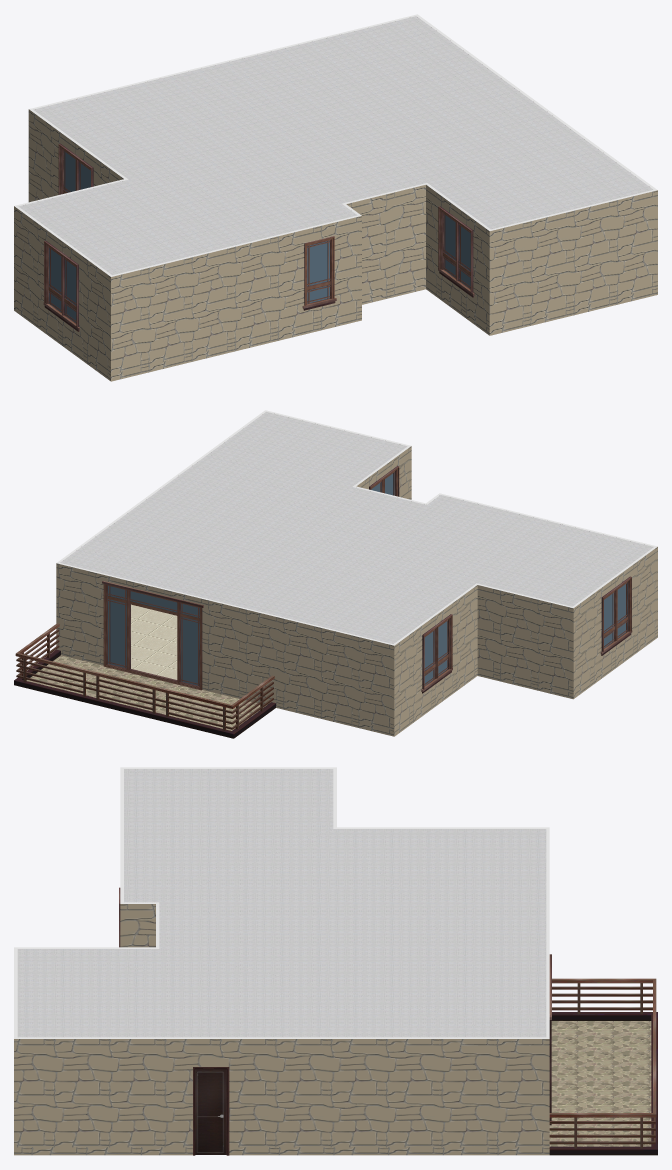
The model's file is house_0110400.FBX.
The picture shows the model from 3 angles, top to bottom: view 1: azimuth 30°, elevation 25°; view 2: azimuth 150°, elevation 25°; view 3: azimuth 270°, elevation 25°; orthographic projection. The views are drawn at different scales.
Parts seen in each view (by area): view 1: house_0110400_roof_100_00, house_0110400_outwall_100_05, house_0110400_outwall_100_09, house_0110400_outwall_100_04, house_0110400_outwall_100_07, house_0110400_outwall_100_08, house_0110400_outwall_100_02, house_0110400_floor_105_00, house_0110400_floor_103_00, house_0110400_floor_104_00, house_0110400_tcx_100_05, house_0110400_tcx_100_09 (+5 smaller); view 2: house_0110400_roof_100_00, house_0110400_outwall_100_01, house_0110400_floor_100_00, house_0110400_outwall_100_03, house_0110400_outwall_101_01, house_0110400_outwall_100_04, house_0110400_outwall_100_02, house_0110400_floor_101_00, house_0110400_floor_103_00, house_0110400_floor_102_00, house_0110400_tcx_100_01, house_0110400_outwall_100_08 (+6 smaller); view 3: house_0110400_roof_100_00, house_0110400_outwall_100_00, house_0110400_floor_100_00, house_0110400_tcx_100_00, house_0110400_outwall_101_00, house_0110400_outwall_100_06, house_0110400_outedge_100_00, house_0110400_outedge_100_01.
Part boxes in pixels (x1=…): house_0110400_roof_100_00: x1=18, y1=16, x2=653, y2=275; house_0110400_outwall_100_05: x1=111, y1=216, x2=361, y2=374; house_0110400_outwall_100_09: x1=489, y1=190, x2=657, y2=328; house_0110400_outwall_100_04: x1=14, y1=206, x2=110, y2=373; house_0110400_outwall_100_07: x1=346, y1=185, x2=425, y2=297; house_0110400_outwall_100_08: x1=426, y1=185, x2=489, y2=328; house_0110400_outwall_100_02: x1=28, y1=109, x2=123, y2=202; house_0110400_floor_105_00: x1=438, y1=206, x2=474, y2=297; house_0110400_floor_103_00: x1=43, y1=240, x2=79, y2=331; house_0110400_floor_104_00: x1=302, y1=236, x2=336, y2=310; house_0110400_tcx_100_05: x1=111, y1=313, x2=361, y2=381; house_0110400_tcx_100_09: x1=489, y1=287, x2=657, y2=335; house_0110400_roof_100_00: x1=60, y1=412, x2=653, y2=643; house_0110400_outwall_100_01: x1=56, y1=563, x2=394, y2=730; house_0110400_floor_100_00: x1=14, y1=623, x2=275, y2=738; house_0110400_outwall_100_03: x1=477, y1=585, x2=573, y2=692; house_0110400_outwall_101_01: x1=102, y1=581, x2=203, y2=690; house_0110400_outwall_100_04: x1=573, y1=547, x2=657, y2=692; house_0110400_outwall_100_02: x1=394, y1=585, x2=477, y2=730; house_0110400_floor_101_00: x1=131, y1=604, x2=177, y2=679; house_0110400_floor_103_00: x1=600, y1=576, x2=632, y2=655; house_0110400_floor_102_00: x1=421, y1=614, x2=452, y2=693; house_0110400_tcx_100_01: x1=56, y1=648, x2=394, y2=736; house_0110400_outwall_100_08: x1=356, y1=446, x2=411, y2=499; house_0110400_roof_100_00: x1=17, y1=769, x2=546, y2=1037; house_0110400_outwall_100_00: x1=14, y1=1039, x2=549, y2=1147; house_0110400_floor_100_00: x1=549, y1=978, x2=657, y2=1155; house_0110400_tcx_100_00: x1=14, y1=1147, x2=549, y2=1155; house_0110400_outwall_101_00: x1=193, y1=1067, x2=229, y2=1155; house_0110400_outwall_100_06: x1=120, y1=904, x2=155, y2=947; house_0110400_outedge_100_00: x1=14, y1=1037, x2=549, y2=1038; house_0110400_outedge_100_01: x1=546, y1=827, x2=549, y2=1038.
Size of the model in its own units: 1455 by 290 by 1452.
Materials: 56 (55 with a texture image).
